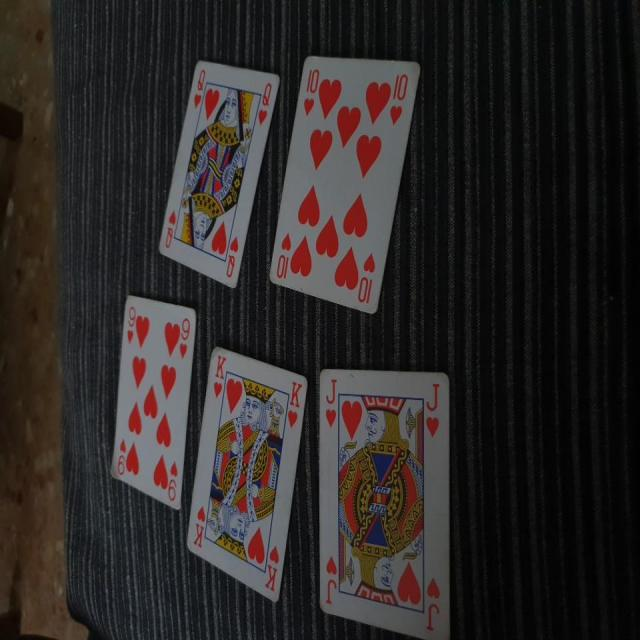10 Hearts: (268, 49, 426, 324)
9 Hearts: (110, 284, 206, 526)
J Hearts: (316, 357, 457, 640)
K Hearts: (185, 348, 312, 606)
Q Hearts: (155, 52, 278, 296)
